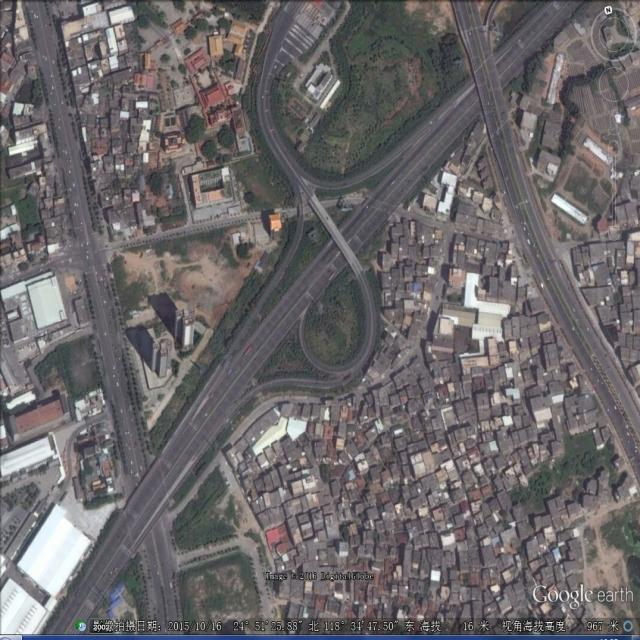overpass: (216, 143, 425, 424)
